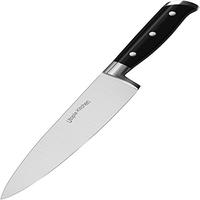knife: (1, 2, 191, 199)
